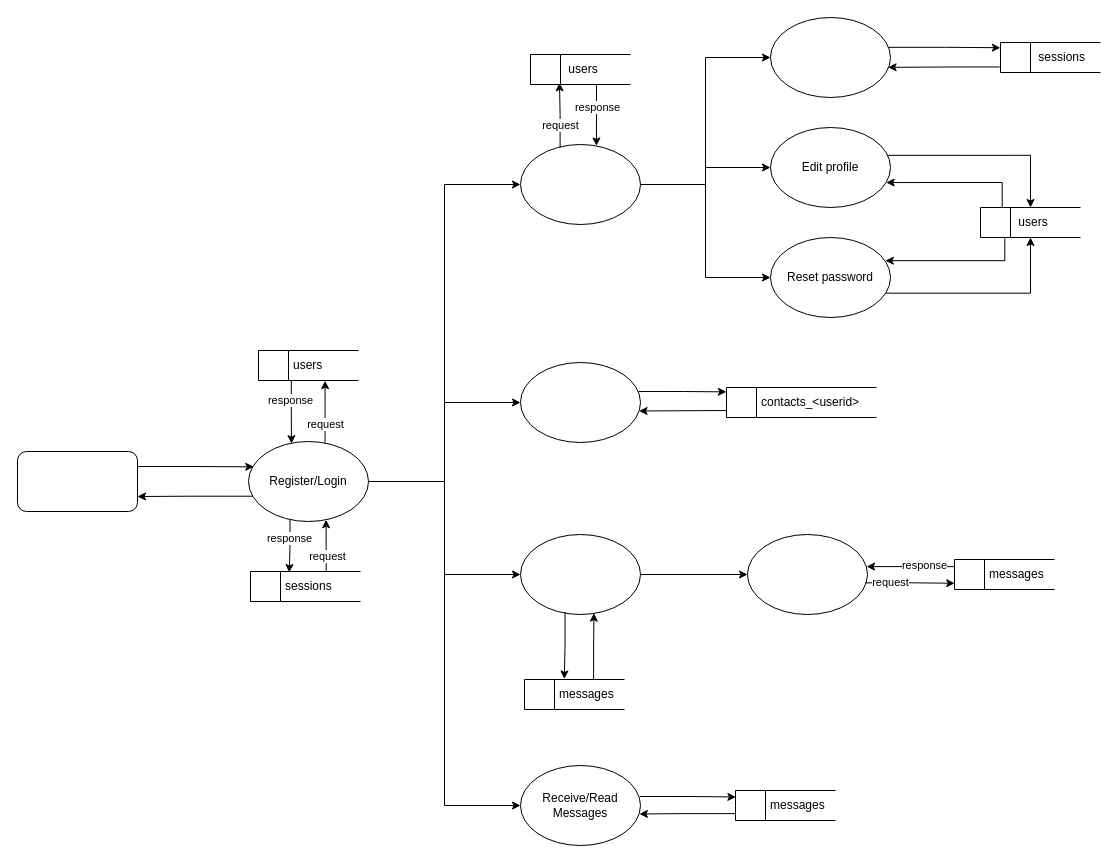
This 1118x863 diagram has some shape labels left out. The centre of each missing label's shape, as x and y in pixels:
"Add/Block/Unblock Contacts" belongs at point (580, 402).
"Delete/Forward/Edit message" belongs at point (807, 574).
"Logout" belongs at point (830, 57).
"Send Text/Voice Message" belongs at point (580, 574).
"User" belongs at point (77, 481).
"View profile" belongs at point (580, 184).
